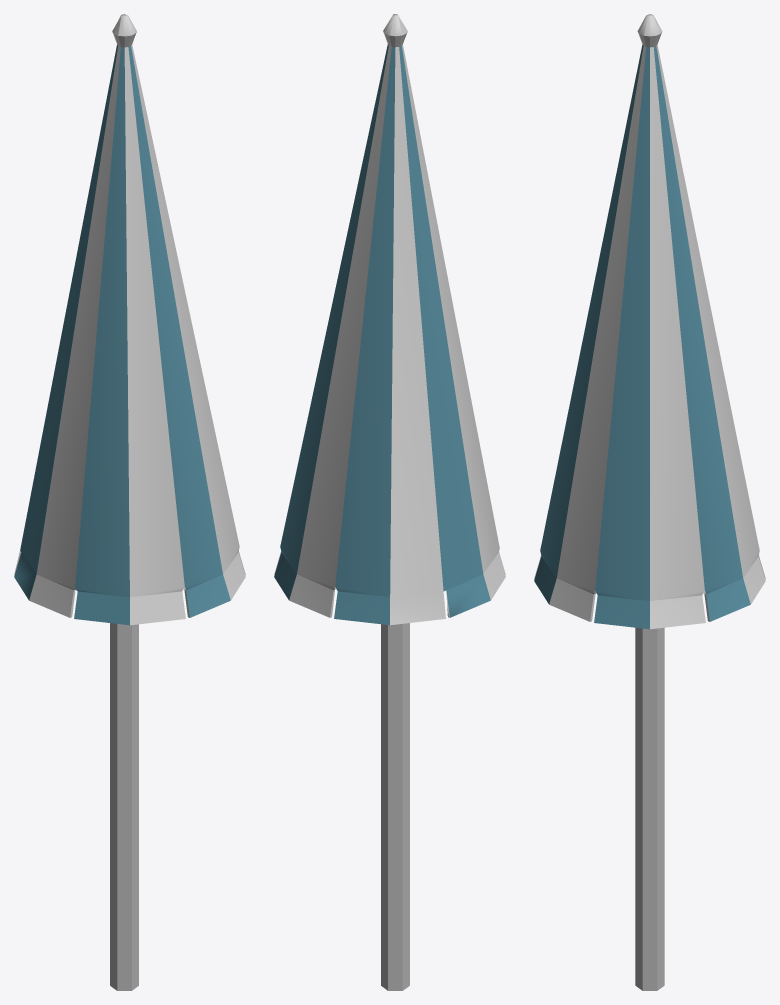
Rendered from Umbrella_10.fbx.
3 views of the same model, side by side, from view 1: azimuth 30°, elevation 25°; view 2: azimuth 150°, elevation 25°; view 3: azimuth 270°, elevation 25° (orthographic).
Visible parts, largest first — view 1: Umbrella_10; view 2: Umbrella_10; view 3: Umbrella_10.
Part boxes in pixels (x1,y1,x2,y2): Umbrella_10: (14, 14, 245, 990); Umbrella_10: (274, 14, 505, 990); Umbrella_10: (534, 14, 765, 990).
Size of the model in its own units: 50.23 by 231 by 49.97.
